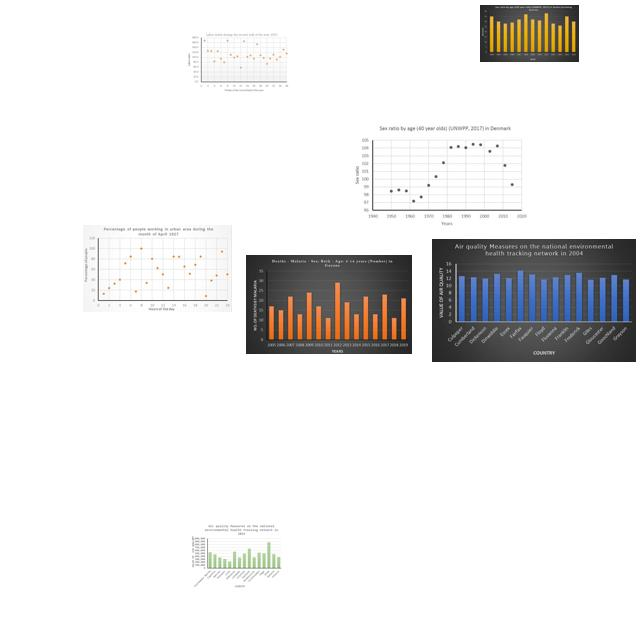Graph: (432, 239, 636, 362), (350, 122, 528, 228), (246, 255, 412, 354), (83, 225, 232, 312), (190, 523, 285, 590), (187, 32, 289, 92), (480, 5, 579, 62)
